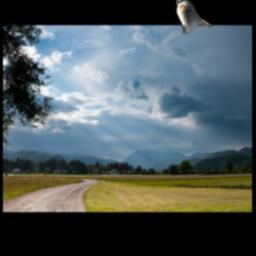Sparrow: (177, 0, 213, 35)
